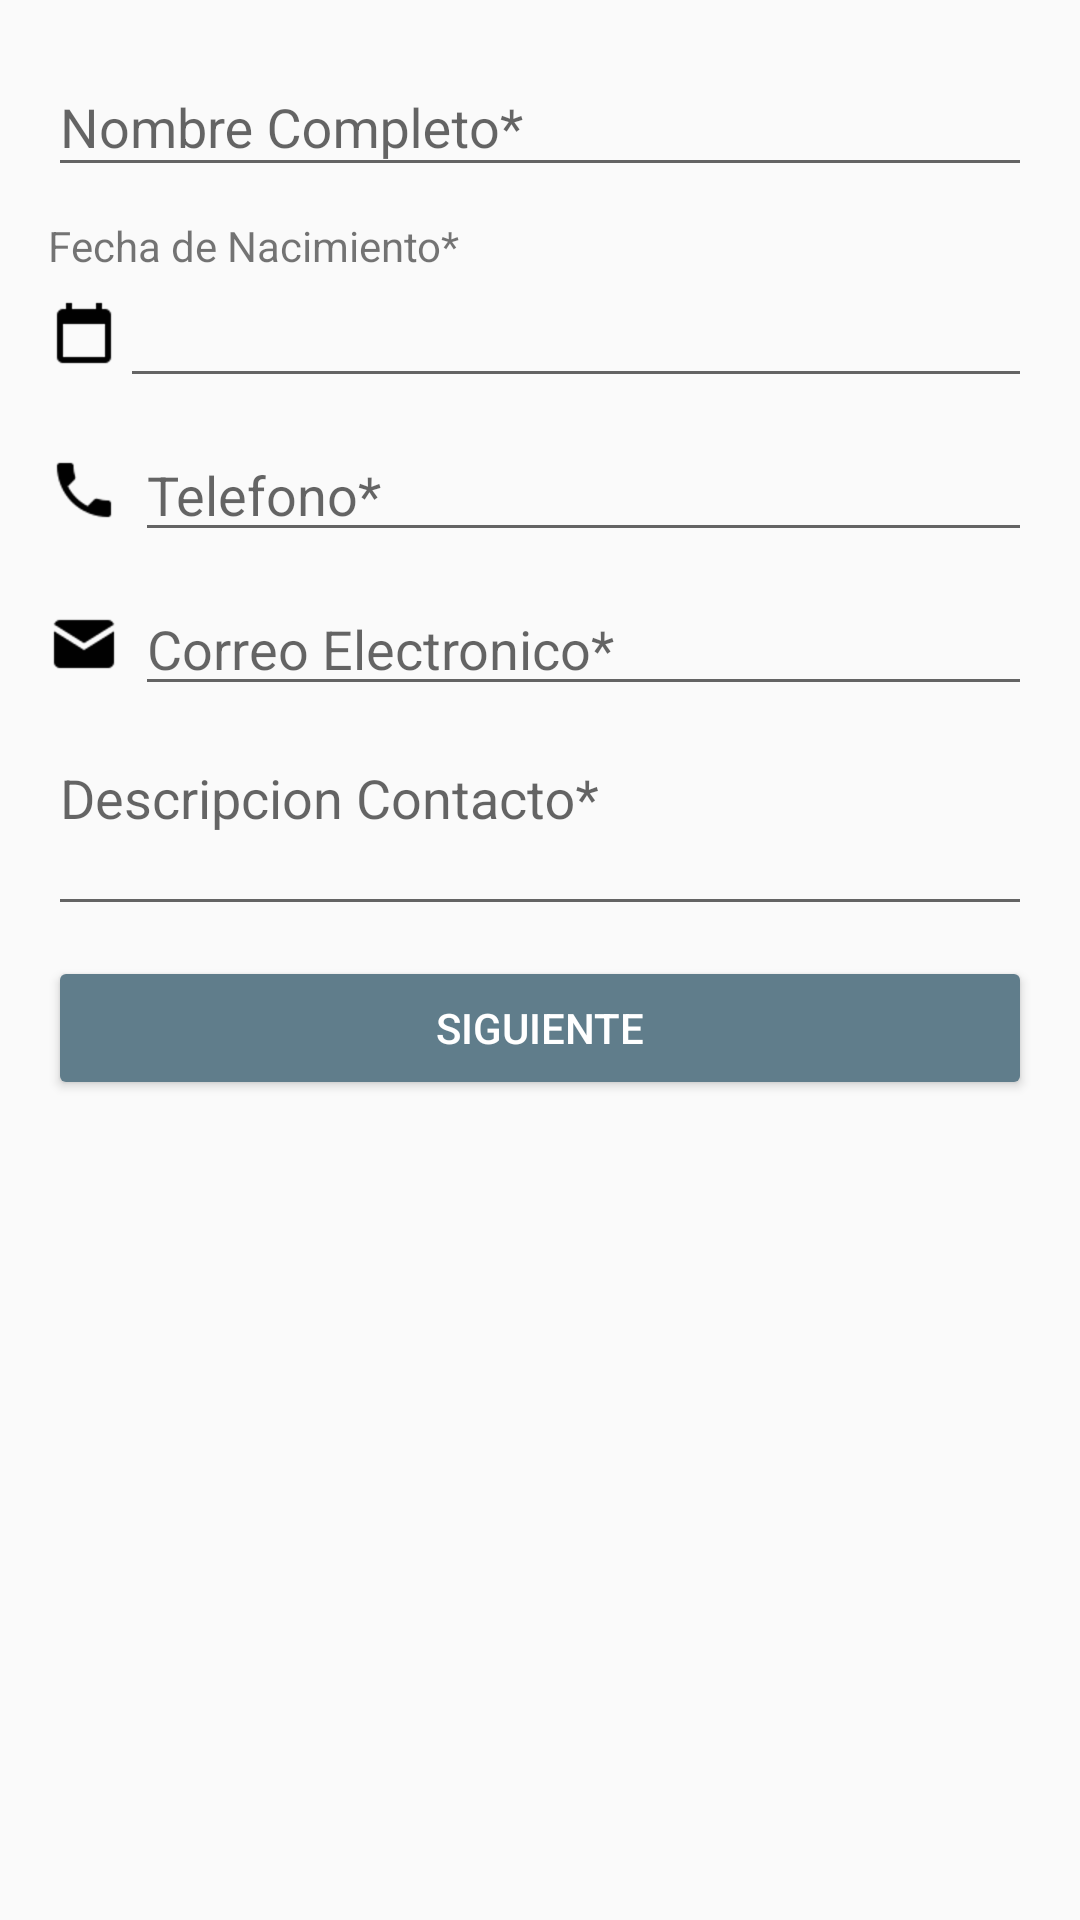

Locate icon controls on the screen. Image size 1080px×1920px, boxes as (x1, y1, x2, y2).
calendar: (56, 302, 112, 364)
mail: (53, 619, 115, 669)
